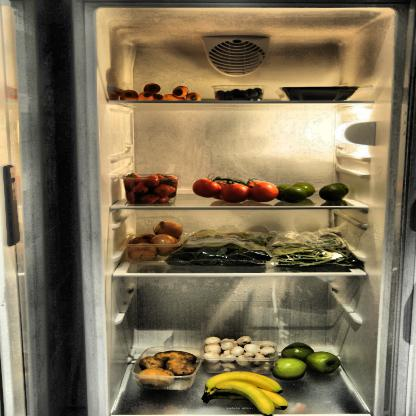apple: (273, 342, 348, 380)
banana: (199, 369, 294, 416)
blueberries: (212, 82, 268, 102)
carrot: (117, 82, 204, 103)
green_beans: (268, 230, 365, 268)
lime: (277, 181, 356, 205)
mushrooms: (202, 336, 276, 372)
onion: (124, 221, 184, 264)
potato: (131, 348, 199, 388)
spinach: (162, 228, 271, 270)
strawberries: (122, 170, 181, 206)
tomato: (192, 172, 280, 204)
